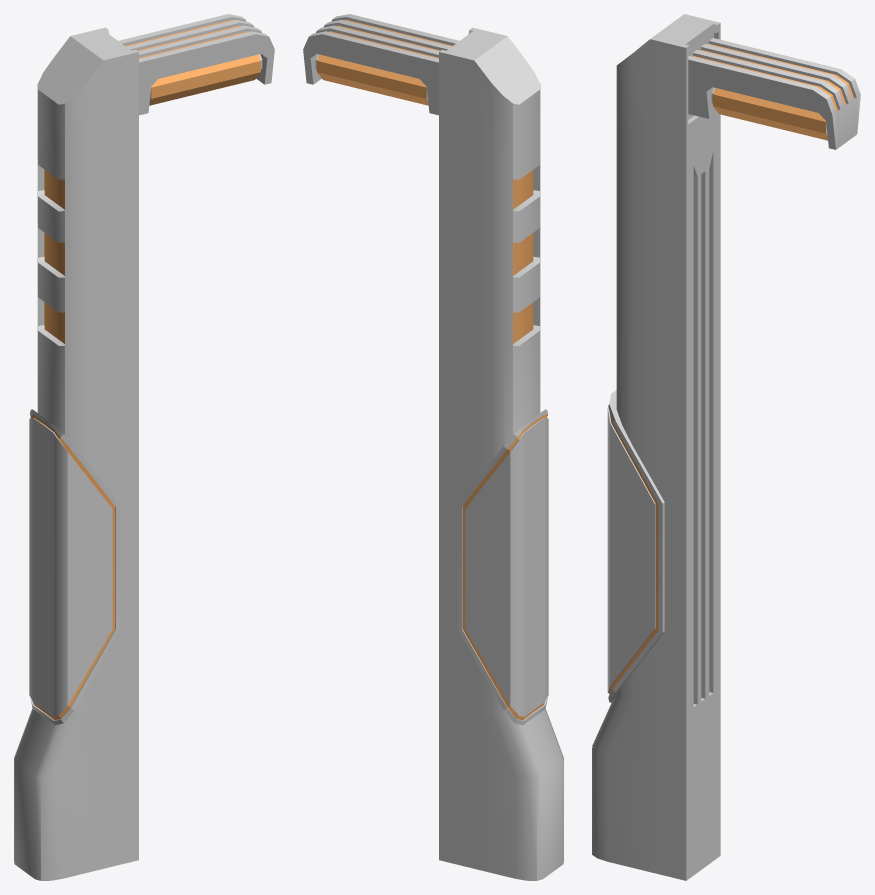
File: Lampadaire.fbx
3 renders of one model, left to right at view 1: azimuth 30°, elevation 25°; view 2: azimuth 150°, elevation 25°; view 3: azimuth 330°, elevation 25°, orthographic. The views are drawn at different scales.
Parts seen in each view (by area): view 1: Cube; view 2: Cube; view 3: Cube.
Part boxes in pixels (x1,y1,x2,y2): Cube: (14, 14, 274, 880); Cube: (303, 14, 563, 880); Cube: (592, 14, 860, 880).
Size of the model in its own units: 1827 by 5972 by 502.
